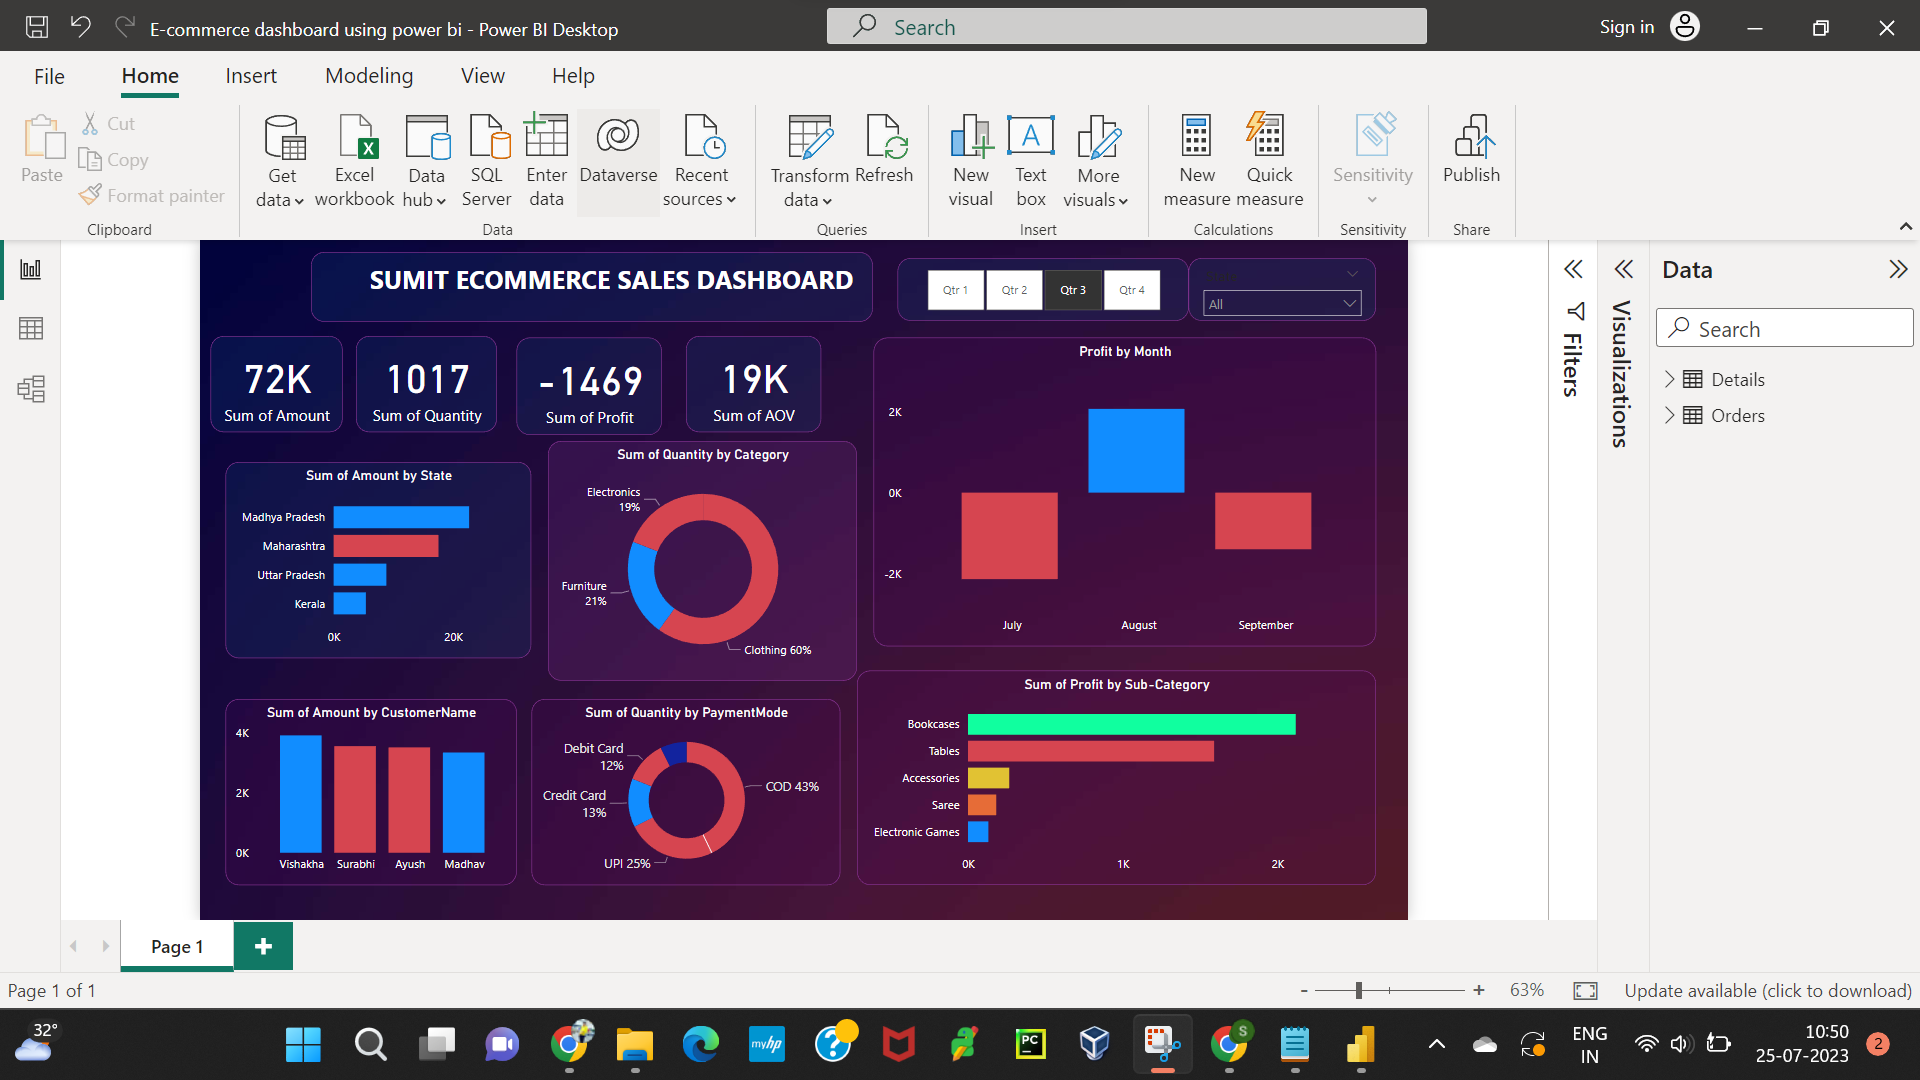

What the dashboard file says about the page in this screenshot:
{"tool":"powerbi","page":{"name":"Page 1","canvas":[1280,720],"ordinal":0},"visuals":[{"type":"textbox","box":[117.2,13.2,595.3,73.7],"z":0},{"type":"columnChart","title":"Profit by Month","fields":{"Y":["Details.Profit"],"Category":["Orders.Order Date.Variation.Date Hierarchy.Month"]},"box":[713.6,103.3,532.5,327.4],"z":1000},{"type":"barChart","fields":{"Category":["Details.Sub-Category"],"Y":["Details.Profit"]},"box":[696.2,456.2,549.9,227.3],"z":2000},{"type":"donutChart","fields":{"Category":["Details.Category"],"Y":["Details.Quantity"]},"box":[368.7,213,327.4,254.3],"z":3000},{"type":"donutChart","fields":{"Category":["Details.PaymentMode","Details.Category"],"Y":["Details.Quantity"]},"box":[351.3,486.4,327.4,197.1],"z":4000},{"type":"card","fields":{"Values":["Details.Amount"]},"box":[11.1,101.7,139.9,101.7],"z":5000},{"type":"card","fields":{"Values":["Details.Quantity"]},"box":[165.3,101.7,149.4,101.7],"z":6000},{"type":"card","fields":{"Values":["Details.Profit"]},"box":[335.4,103.3,154.2,103.3],"z":7000},{"type":"card","fields":{"Values":["Details.AOV"]},"box":[515,101.7,143,101.7],"z":8000},{"type":"barChart","fields":{"Category":["Orders.State"],"Y":["Details.Amount"]},"box":[27,235.2,324.2,208.2],"z":9000},{"type":"columnChart","fields":{"Category":["Orders.CustomerName"],"Y":["Details.Amount"]},"box":[27,486.4,308.3,197.1],"z":10000},{"type":"slicer","fields":{"Values":["Orders.Order Date.Variation.Date Hierarchy.Quarter"]},"box":[739.1,19.1,308.3,66.8],"z":10001},{"type":"slicer","fields":{"Values":["Orders.State"]},"box":[1047.4,19.1,198.7,66.8],"z":10002}]}

Visuals, with their boxes on the page's 1280x720 design canvas (x1, y1, x2, y2). These are canvas units, not pixel positions in the 1920x1080 screenshot, which may show the page scaled, cropped or inside an application window:
textbox: [left=117, top=13, right=712, bottom=87]
"Profit by Month" columnChart: [left=714, top=103, right=1246, bottom=431]
barChart - Details.Sub-Category x Details.Profit: [left=696, top=456, right=1246, bottom=684]
donutChart - Details.Category x Details.Quantity: [left=369, top=213, right=696, bottom=467]
donutChart - Details.PaymentMode x Details.Category: [left=351, top=486, right=679, bottom=684]
card - Details.Amount: [left=11, top=102, right=151, bottom=203]
card - Details.Quantity: [left=165, top=102, right=315, bottom=203]
card - Details.Profit: [left=335, top=103, right=490, bottom=207]
card - Details.AOV: [left=515, top=102, right=658, bottom=203]
barChart - Orders.State x Details.Amount: [left=27, top=235, right=351, bottom=443]
columnChart - Orders.CustomerName x Details.Amount: [left=27, top=486, right=335, bottom=684]
slicer - Orders.Order Date.Variation.Date Hierarchy.Quarter: [left=739, top=19, right=1047, bottom=86]
slicer - Orders.State: [left=1047, top=19, right=1246, bottom=86]
